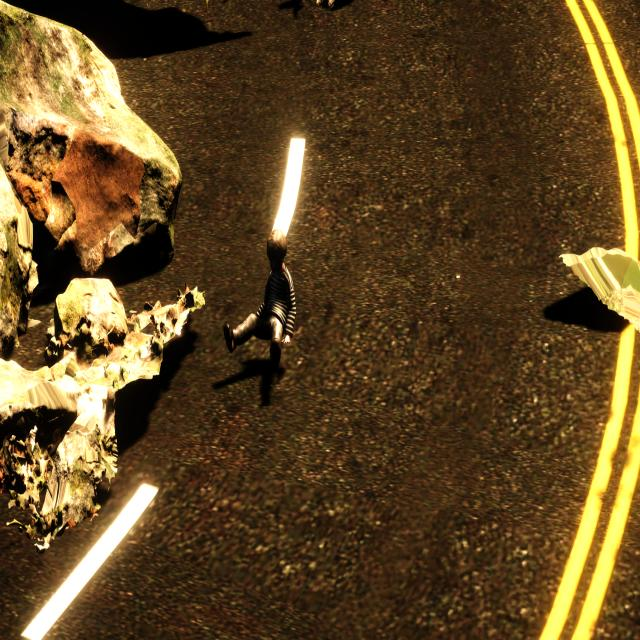Human: (218, 229, 300, 380)
